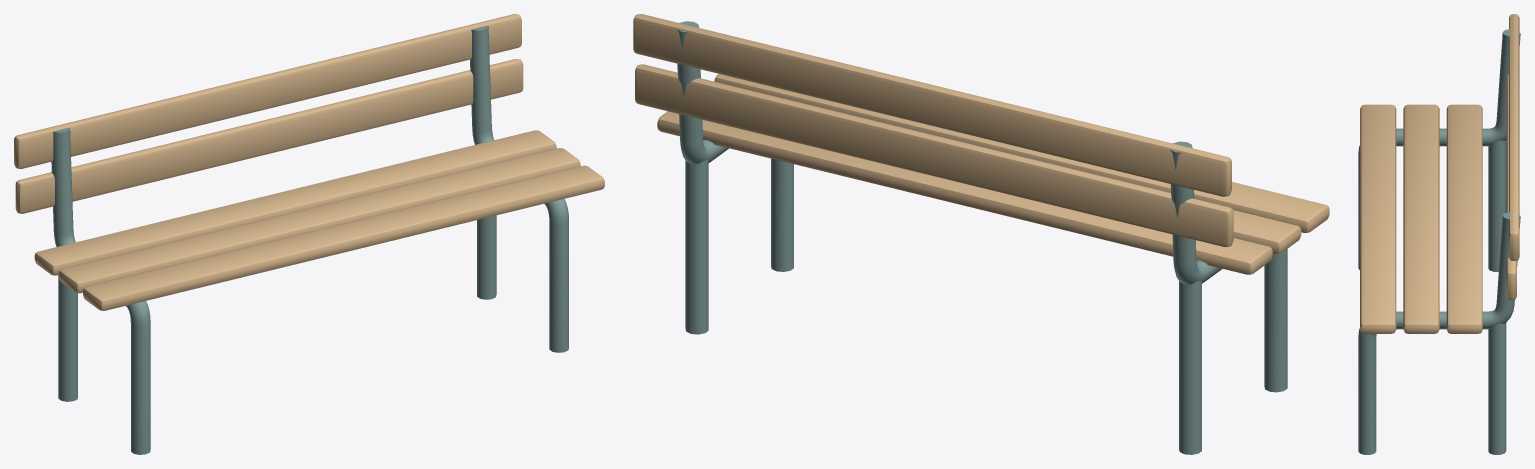
File: bench.glb
The picture shows the model from 3 angles, left to right: view 1: azimuth 30°, elevation 25°; view 2: azimuth 150°, elevation 25°; view 3: azimuth 270°, elevation 25°; orthographic projection. The views are drawn at different scales.
Visible parts, largest first — view 1: wood, paint; view 2: wood, paint; view 3: wood, paint.
Part boxes in pixels (x1,y1,x2,y2): wood: (14,14,604,310); paint: (51,25,568,454); wood: (633,14,1329,274); paint: (677,21,1287,454); wood: (1360,14,1519,333); paint: (1358,29,1520,454).
Size of the model in its own units: 1.45 by 0.725 by 0.45.
